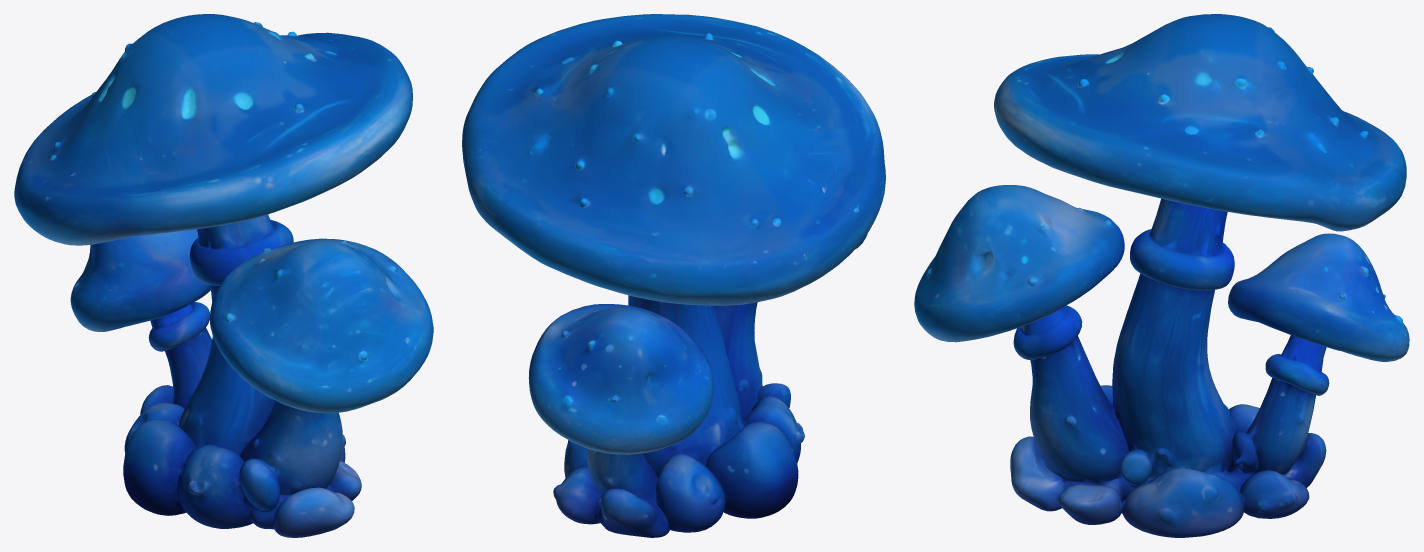
Rendered from nature-mushroom-glow-blue.glb.
The picture shows the model from 3 angles, left to right: view 1: azimuth 30°, elevation 25°; view 2: azimuth 150°, elevation 25°; view 3: azimuth 270°, elevation 25°; orthographic projection. The views are drawn at different scales.
Visible parts, largest first — view 1: tripo_node_ce674e11-bf0e-411a-86ad-8b45470a3930; view 2: tripo_node_ce674e11-bf0e-411a-86ad-8b45470a3930; view 3: tripo_node_ce674e11-bf0e-411a-86ad-8b45470a3930.
Part boxes in pixels (x1,y1,x2,y2): tripo_node_ce674e11-bf0e-411a-86ad-8b45470a3930: (14,14,433,537); tripo_node_ce674e11-bf0e-411a-86ad-8b45470a3930: (462,14,885,537); tripo_node_ce674e11-bf0e-411a-86ad-8b45470a3930: (914,14,1409,537).
Bounding box in the file's own units: 0.3281 × 0.4 × 0.3887.
Materials: 1 (1 with a texture image).
